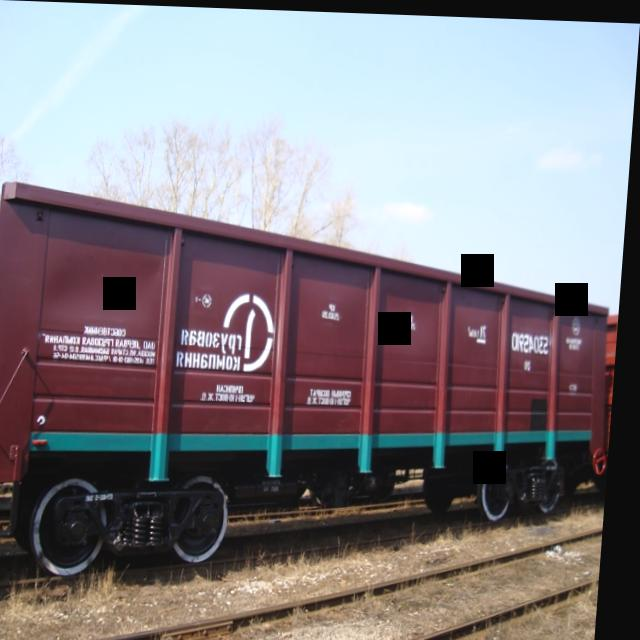gondola: (0, 175, 621, 597)
